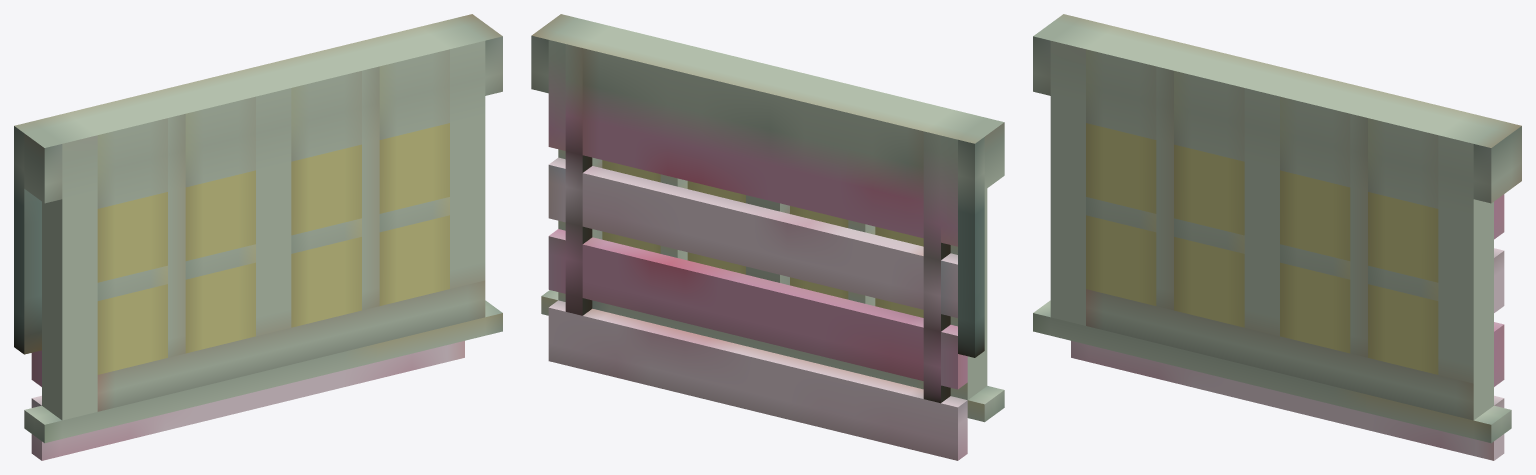
File: BlindsPink_B_00.obj
3 views of the same model, side by side, from view 1: azimuth 30°, elevation 25°; view 2: azimuth 150°, elevation 25°; view 3: azimuth 330°, elevation 25° (orthographic). The views are drawn at different scales.
Parts seen in each view (by area): view 1: BlindsPink_B_00; view 2: BlindsPink_B_00; view 3: BlindsPink_B_00.
Part boxes in pixels (<box>): BlindsPink_B_00: <box>14,14,502,460</box>; BlindsPink_B_00: <box>531,14,1004,460</box>; BlindsPink_B_00: <box>1033,14,1521,460</box>.
Size of the model in its own units: 1.3 by 0.9 by 0.15.
